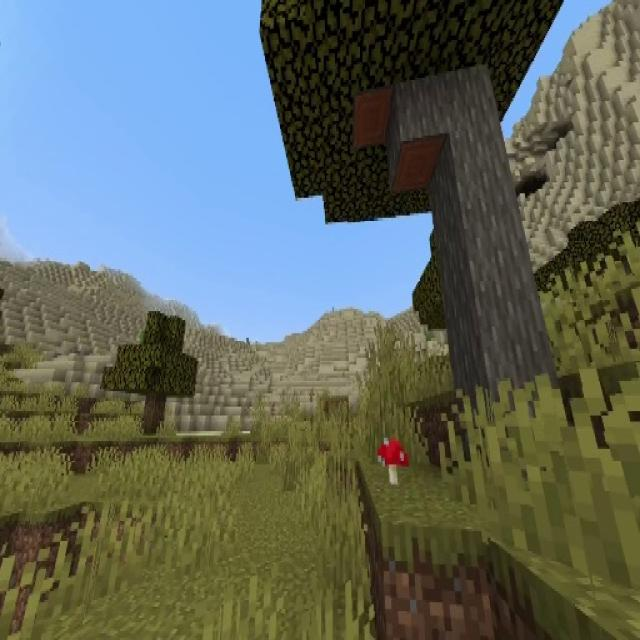acacia: (258, 0, 566, 448)
acacia_log: (403, 67, 542, 462)
oak: (103, 314, 199, 434)
oak_log: (144, 395, 165, 436)
